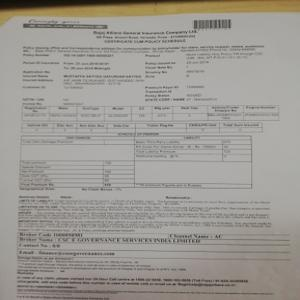table: (20, 134, 250, 188), (20, 105, 281, 122), (21, 123, 266, 132)
text: (20, 45, 268, 102), (16, 195, 276, 233), (89, 28, 199, 44)
